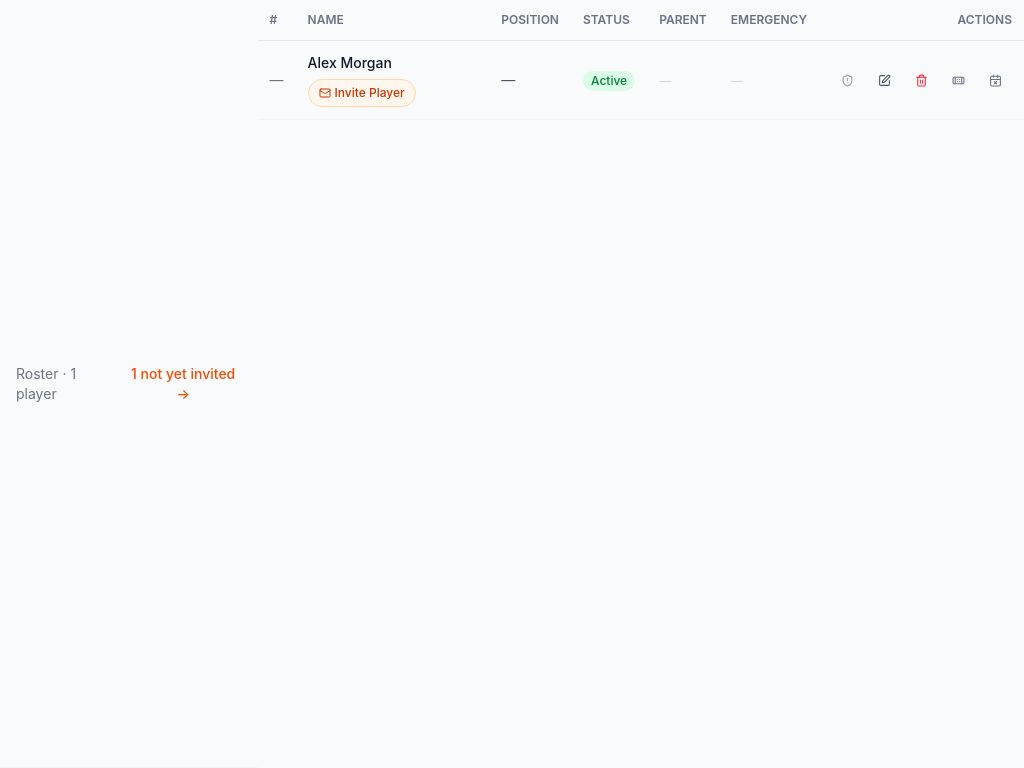
Test: RosterTable — "Invite Sent" done state › shows "Invite Sent" chip after a successful invite, replacing the invite button
Open the invite sheet
Click the button with aria-label "invite alex morgan": (362, 93) x1=308 y1=79 x2=416 y2=107
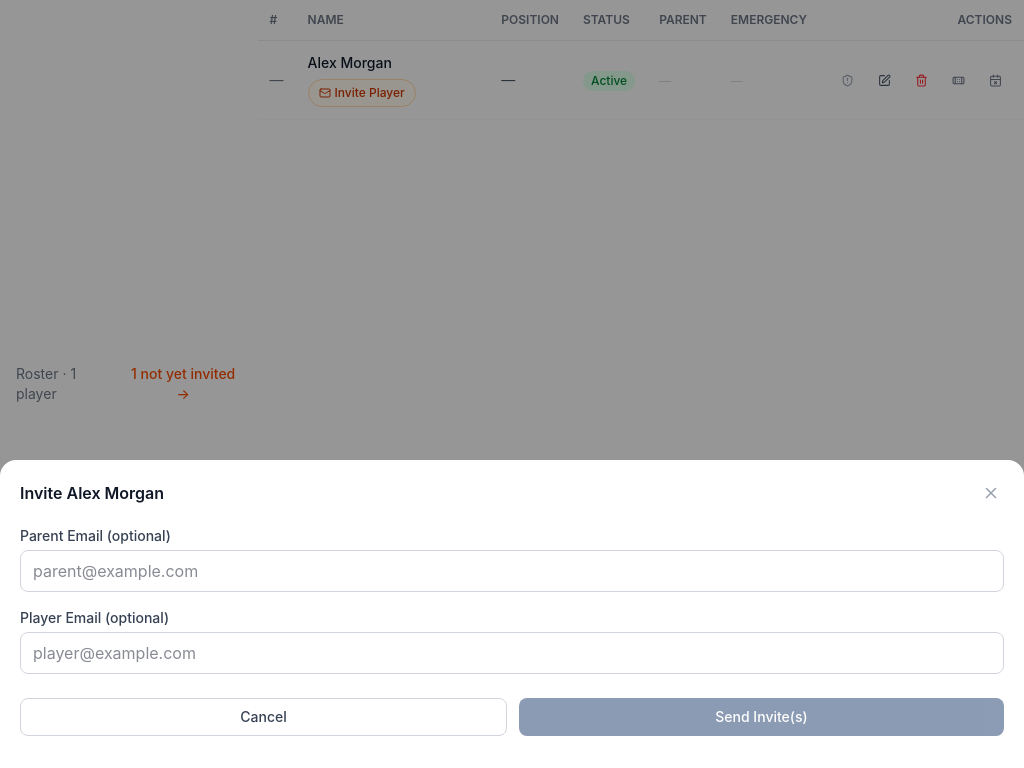
The sheet renders inline — fill in the email and submit
In the field labelled "Parent Email (optional)": (512, 571) x1=20 y1=550 x2=1004 y2=592, type "mom@example.com"
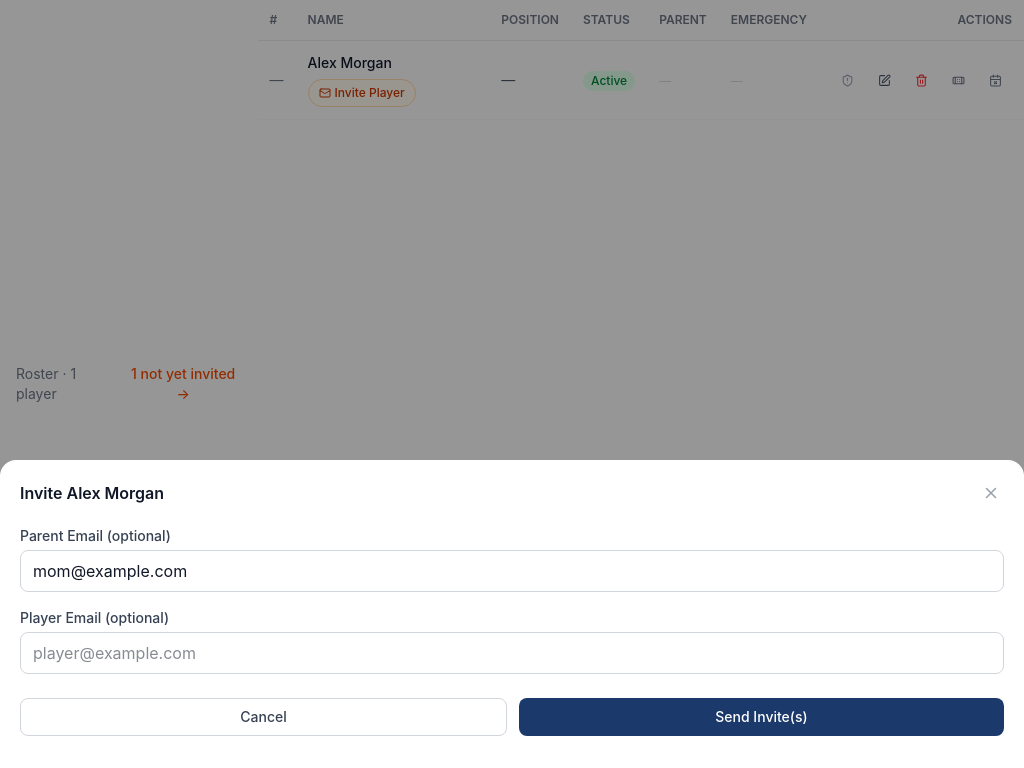
Click the button "Send Invite(s)": (762, 717) x1=519 y1=698 x2=1004 y2=736
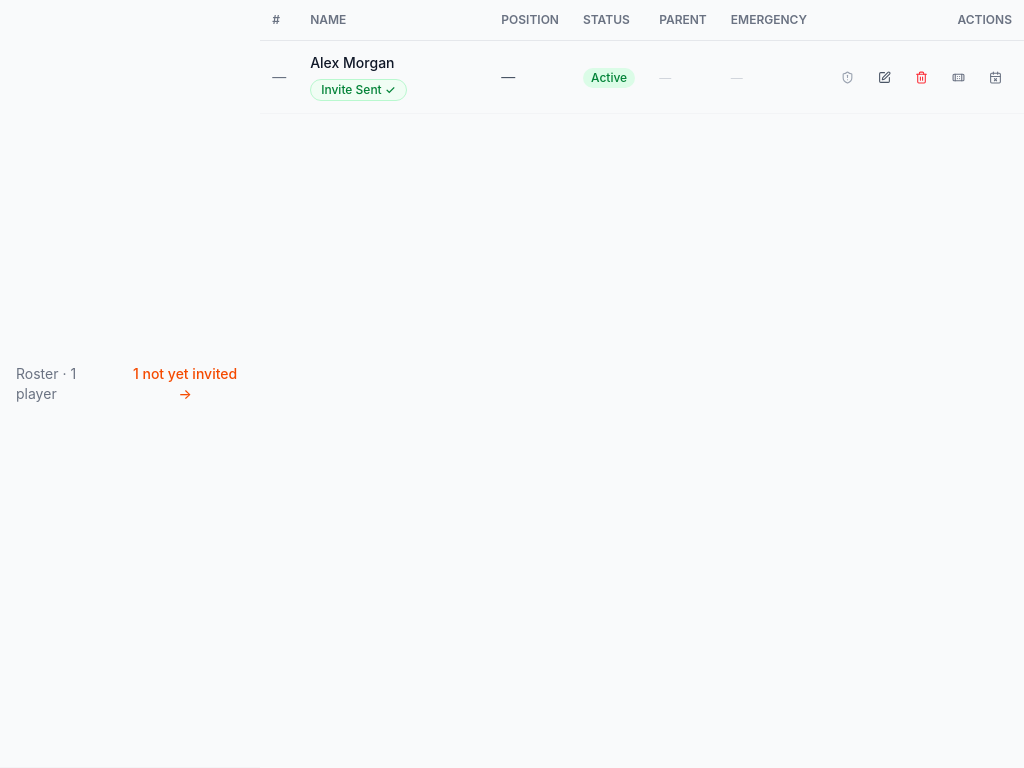
Now the text "Invite Sent ✓" is shown, box x1=310 y1=79 x2=406 y2=101
Now the heading "Invite Alex Morgan" is gone
